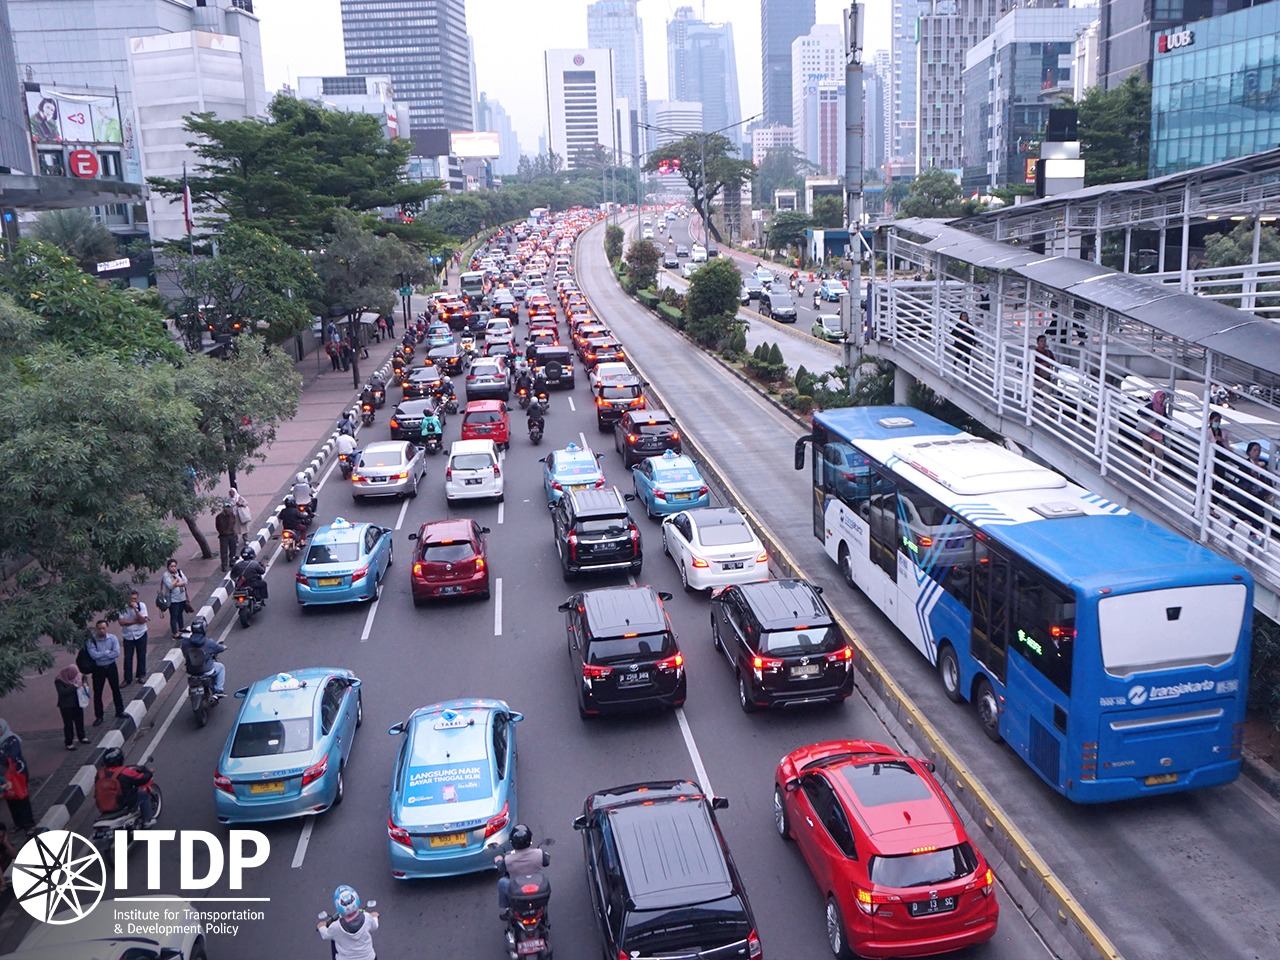bike: (500, 843, 555, 957), (93, 763, 158, 848), (187, 628, 223, 719), (231, 550, 271, 623), (275, 503, 310, 558), (294, 476, 322, 517), (335, 429, 356, 472), (525, 397, 544, 444), (423, 414, 444, 455), (360, 384, 376, 426), (516, 375, 534, 404), (438, 379, 456, 409), (533, 375, 550, 403), (400, 333, 417, 361), (390, 352, 405, 383), (372, 376, 388, 405)
bus: (810, 406, 1248, 784)
car: (766, 734, 1006, 943), (572, 788, 773, 960), (392, 693, 528, 886), (220, 661, 355, 822), (710, 579, 858, 699), (564, 586, 688, 708), (657, 504, 780, 578), (547, 483, 648, 570), (298, 516, 393, 602), (408, 517, 495, 599), (443, 433, 500, 510), (359, 436, 423, 501), (630, 459, 709, 507), (617, 409, 686, 456), (541, 448, 607, 496), (596, 374, 648, 416), (462, 401, 513, 443), (465, 356, 514, 395), (536, 346, 577, 386), (395, 396, 431, 435), (763, 296, 802, 324), (429, 341, 464, 370), (589, 363, 635, 383), (487, 317, 518, 343), (811, 314, 843, 340), (820, 279, 845, 301), (494, 301, 522, 319), (423, 324, 455, 339), (529, 330, 558, 346), (446, 303, 468, 323), (468, 312, 487, 333), (530, 303, 558, 316), (744, 279, 764, 295), (752, 267, 773, 281), (662, 255, 679, 271), (691, 245, 706, 263), (682, 264, 696, 278), (674, 243, 687, 256), (644, 228, 655, 239), (643, 219, 652, 227)
